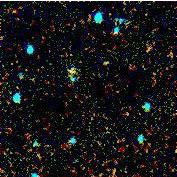star: (57, 51, 87, 81)
